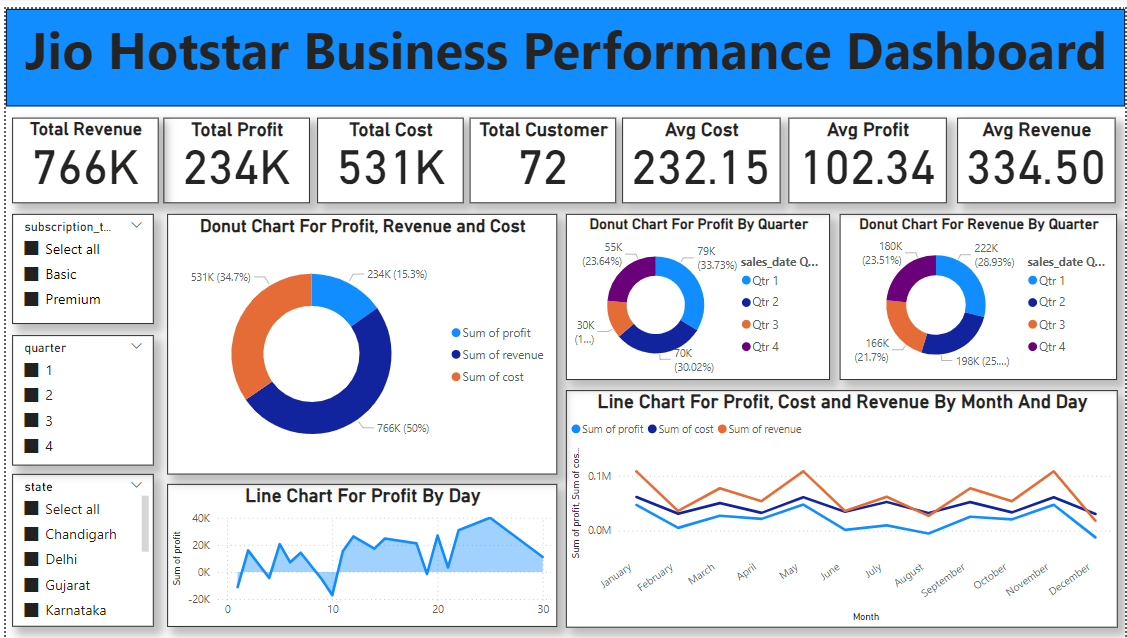

This screenshot's page, from the dashboard's own definition file:
{"tool":"powerbi","page":{"name":"Page 1","canvas":[1280,720],"ordinal":0},"visuals":[{"type":"card","title":"Total Profit","fields":{"Values":["Sum(public sales.profit)"]},"box":[180.6,124.4,167.3,97.7],"z":0},{"type":"card","title":"Total Revenue","fields":{"Values":["Sum(public sales.revenue)"]},"box":[7.5,124.4,167.3,97.7],"z":1000},{"type":"card","title":"Total Cost","fields":{"Values":["Sum(public sales.cost)"]},"box":[355.3,124.4,167.3,97.7],"z":2000},{"type":"card","title":"Total Customer","fields":{"Values":["Count(public customer.customer_name)"]},"box":[529.9,124.4,167.3,97.7],"z":3000},{"type":"stackedAreaChart","title":"Line Chart For Profit By Day","fields":{"Category":["public sales.sales_date.Variation.Date Hierarchy.Month","public sales.sales_date.Variation.Date Hierarchy.Day"],"Y":["Sum(public sales.profit)"]},"box":[183.6,543.3,445.5,162.8],"z":4000},{"type":"lineChart","title":"Line Chart For Profit, Cost and Revenue By Month And Day","fields":{"Y":["Sum(public sales.profit)","Sum(public sales.cost)","Sum(public sales.revenue)"],"Category":["public sales.sales_date.Variation.Date Hierarchy.Month","public sales.sales_date.Variation.Date Hierarchy.Day"]},"box":[639.5,435.2,630.5,270.9],"z":5000},{"type":"donutChart","title":"Donut Chart For Profit, Revenue and Cost","fields":{"Y":["Sum(public sales.profit)","Sum(public sales.revenue)","Sum(public sales.cost)"]},"box":[183.6,233.9,445.5,297.5],"z":6000},{"type":"donutChart","title":"Donut Chart For Profit By Quarter","fields":{"Y":["Sum(public sales.profit)"],"Category":["public sales.sales_date.Variation.Date Hierarchy.Quarter"]},"box":[639.5,233.9,301.9,189.5],"z":7000},{"type":"donutChart","title":"Donut Chart For Revenue By Quarter","fields":{"Y":["Sum(public sales.revenue)"],"Category":["public sales.sales_date.Variation.Date Hierarchy.Quarter"]},"box":[953.3,233.9,316.7,189.5],"z":8000},{"type":"textbox","box":[0,0,1280.3,111],"z":9000},{"type":"card","title":"Avg Cost","fields":{"Values":["Avg(public sales.cost)"]},"box":[704.6,124.4,180.6,97.7],"z":10000},{"type":"card","title":"Avg Profit","fields":{"Values":["Avg(public sales.profit)"]},"box":[894.1,124.4,180.6,97.7],"z":11000},{"type":"card","title":"Avg Revenue","fields":{"Values":["Avg(public sales.revenue)"]},"box":[1086.5,124.4,180.6,97.7],"z":12000},{"type":"slicer","fields":{"Values":["public customer.state"]},"box":[7.1,531.4,161.4,174.3],"z":13000},{"type":"slicer","fields":{"Values":["public subscription.subscription_type"]},"box":[7.1,234.3,161.4,125.7],"z":14000},{"type":"slicer","fields":{"Values":["public sales.quarter"]},"box":[7.1,372.9,161.4,148.6],"z":15000}]}

Visuals, with their boxes in screenshot pixels (x1, y1, x2, y2), scaled from the page's 1280x720 canvas onto the 1127x638 screenshot:
"Total Profit" card: Rect(159, 110, 306, 197)
"Total Revenue" card: Rect(7, 110, 154, 197)
"Total Cost" card: Rect(313, 110, 460, 197)
"Total Customer" card: Rect(467, 110, 614, 197)
"Line Chart For Profit By Day" stackedAreaChart: Rect(162, 481, 554, 626)
"Line Chart For Profit, Cost and Revenue By Month And Day" lineChart: Rect(563, 386, 1118, 626)
"Donut Chart For Profit, Revenue and Cost" donutChart: Rect(162, 207, 554, 471)
"Donut Chart For Profit By Quarter" donutChart: Rect(563, 207, 829, 375)
"Donut Chart For Revenue By Quarter" donutChart: Rect(839, 207, 1118, 375)
textbox: Rect(0, 0, 1126, 98)
"Avg Cost" card: Rect(620, 110, 779, 197)
"Avg Profit" card: Rect(787, 110, 946, 197)
"Avg Revenue" card: Rect(957, 110, 1116, 197)
slicer - public customer.state: Rect(6, 471, 148, 625)
slicer - public subscription.subscription_type: Rect(6, 208, 148, 319)
slicer - public sales.quarter: Rect(6, 330, 148, 462)
